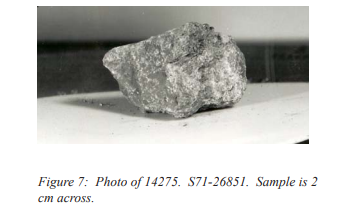Breccia: (97, 10, 257, 127)
